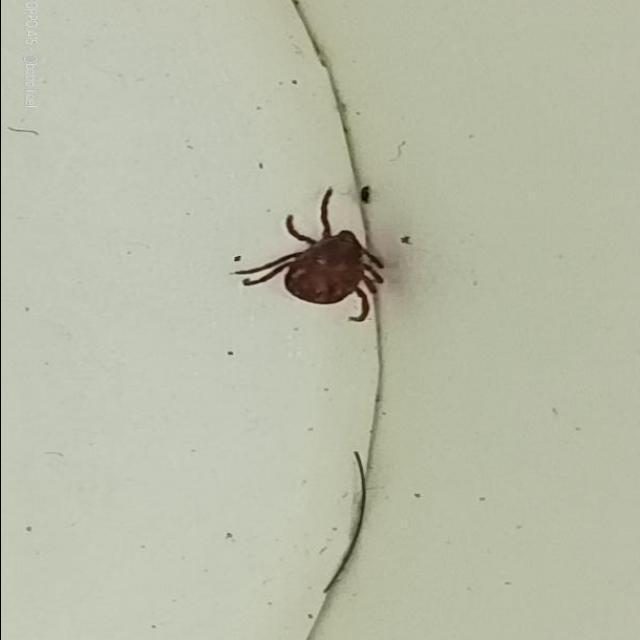Rhipicephalus Sanguineus-M: (232, 190, 381, 323)
